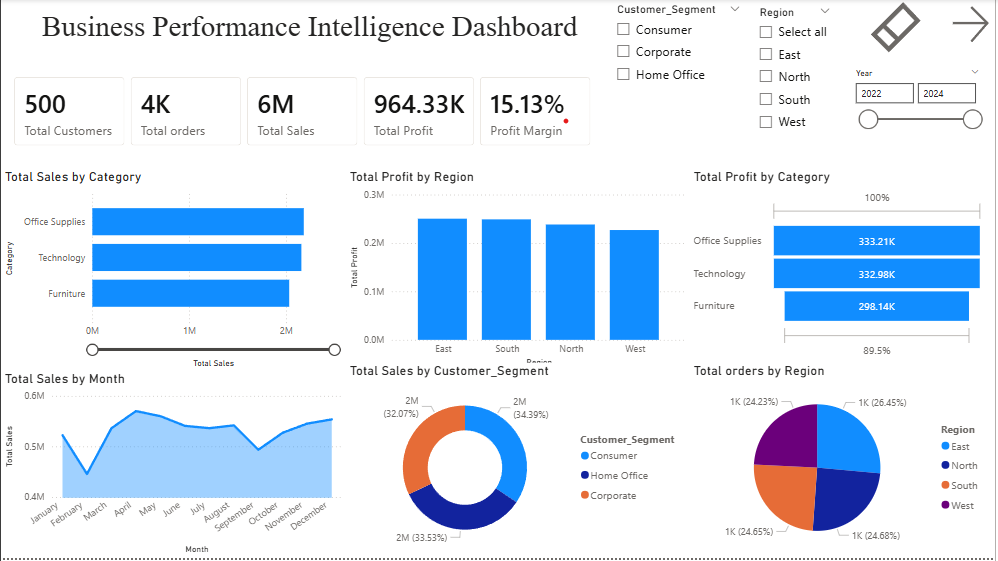

The dashboard page shown, as its layout file describes it:
{"tool":"powerbi","page":{"name":"Page 1","canvas":[1280,720],"ordinal":0},"visuals":[{"type":"areaChart","fields":{"Category":["RetailData.Order_Date.Variation.Date Hierarchy.Month"],"Y":["RetailData.Total Sales"]},"box":[0,478.8,443.8,241.2],"z":3000},{"type":"clusteredColumnChart","fields":{"Y":["RetailData.Total Profit"],"Category":["RetailData.Region"]},"box":[443.8,218.8,443.8,260],"z":4000},{"type":"cardVisual","fields":{"Data":["RetailData.Total Customer","RetailData.Total orders","RetailData.Total Sales","RetailData.Total Profit","RetailData.Profit Margin"]},"box":[0,83.8,780,122.5],"z":6000},{"type":"donutChart","fields":{"Y":["RetailData.Total Sales"],"Category":["RetailData.Customer_Segment"]},"box":[443.8,468.8,443.8,251.2],"z":7000},{"type":"funnel","fields":{"Y":["RetailData.Total Profit"],"Category":["RetailData.Category"]},"box":[887.5,218.8,383.8,250],"z":8000},{"type":"pieChart","fields":{"Category":["RetailData.Region"],"Y":["RetailData.Total orders"]},"box":[887.5,468.8,392.5,251.2],"z":9000},{"type":"barChart","fields":{"Category":["RetailData.Category"],"Y":["RetailData.Total Sales"]},"box":[0,218.8,443.8,260],"z":10000},{"type":"slicer","fields":{"Values":["RetailData.Customer_Segment"]},"box":[780,0,183.8,117.5],"z":11000},{"type":"slicer","fields":{"Values":["RetailData.Year"]},"box":[1087.5,83.8,183.8,122.5],"z":12000},{"type":"slicer","fields":{"Values":["RetailData.Region"]},"box":[963.8,2.5,116.2,216.2],"z":13000},{"type":"textbox","box":[13.8,8.8,766.2,66.2],"z":13001},{"type":"actionButton","box":[1218.8,3.8,61.2,58.8],"z":13002},{"type":"actionButton","box":[1116.2,0,75,73.8],"z":13003}]}

Visuals, with their boxes in screenshot pixels (x1, y1, x2, y2), scaled from the page's 1280x720 canvas onto the 998x561 screenshot:
areaChart - RetailData.Order_Date.Variation.Date Hierarchy.Month x RetailData.Total Sales: <region>0, 373, 346, 560</region>
clusteredColumnChart - RetailData.Total Profit x RetailData.Region: <region>346, 170, 692, 373</region>
cardVisual - RetailData.Total Customer x RetailData.Total orders: <region>0, 65, 608, 161</region>
donutChart - RetailData.Total Sales x RetailData.Customer_Segment: <region>346, 365, 692, 560</region>
funnel - RetailData.Total Profit x RetailData.Category: <region>692, 170, 991, 365</region>
pieChart - RetailData.Region x RetailData.Total orders: <region>692, 365, 997, 560</region>
barChart - RetailData.Category x RetailData.Total Sales: <region>0, 170, 346, 373</region>
slicer - RetailData.Customer_Segment: <region>608, 0, 751, 92</region>
slicer - RetailData.Year: <region>848, 65, 991, 161</region>
slicer - RetailData.Region: <region>751, 2, 842, 170</region>
textbox: <region>11, 7, 608, 58</region>
actionButton: <region>950, 3, 997, 49</region>
actionButton: <region>870, 0, 929, 58</region>
